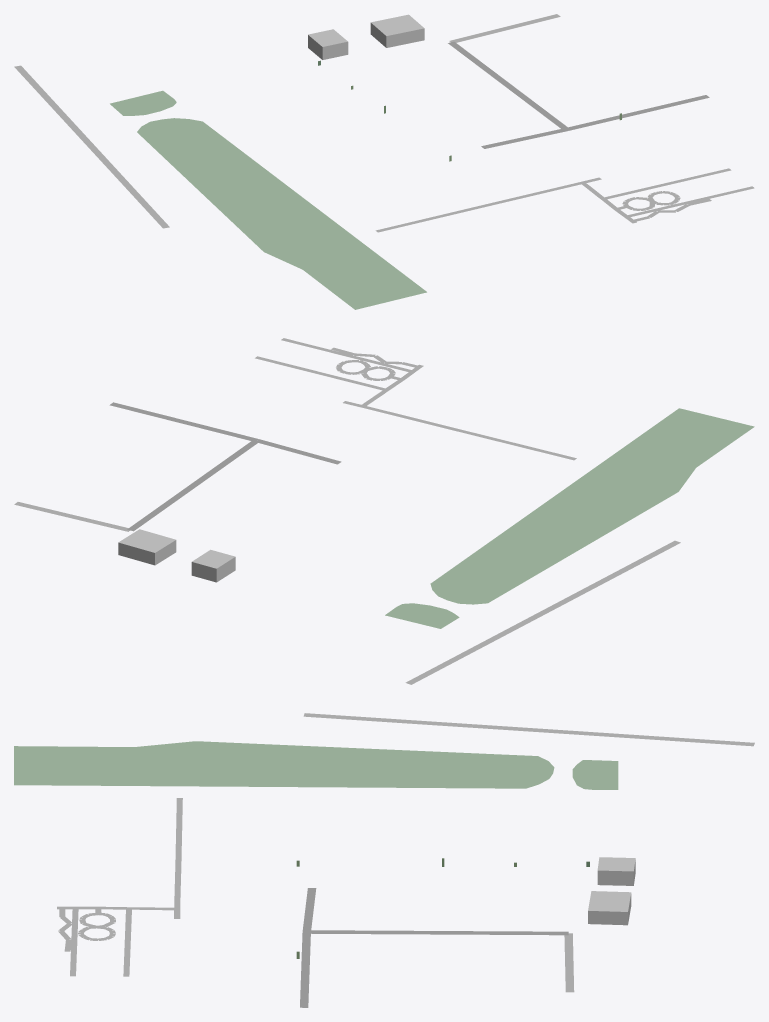
3 views of the same model, one above another, from view 1: azimuth 30°, elevation 25°; view 2: azimuth 150°, elevation 25°; view 3: azimuth 270°, elevation 25° (orthographic). The views are drawn at different scales.
Size of the model in its own units: 576 by 13.47 by 613.
